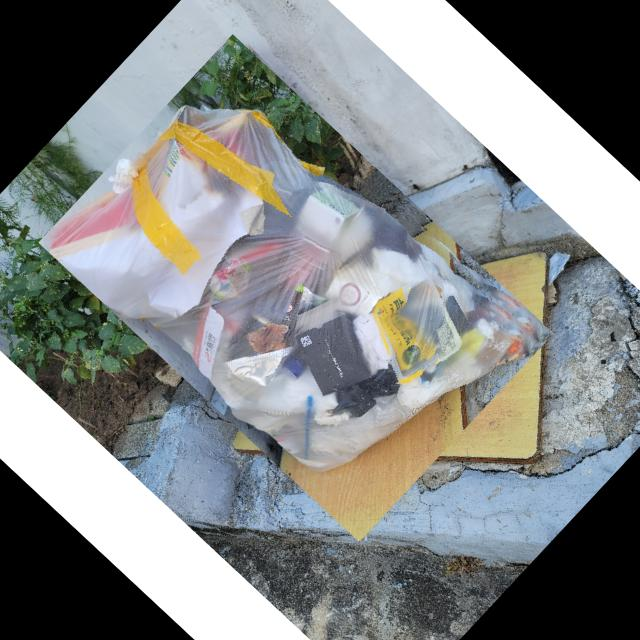other_trashbag: (47, 106, 542, 471)
